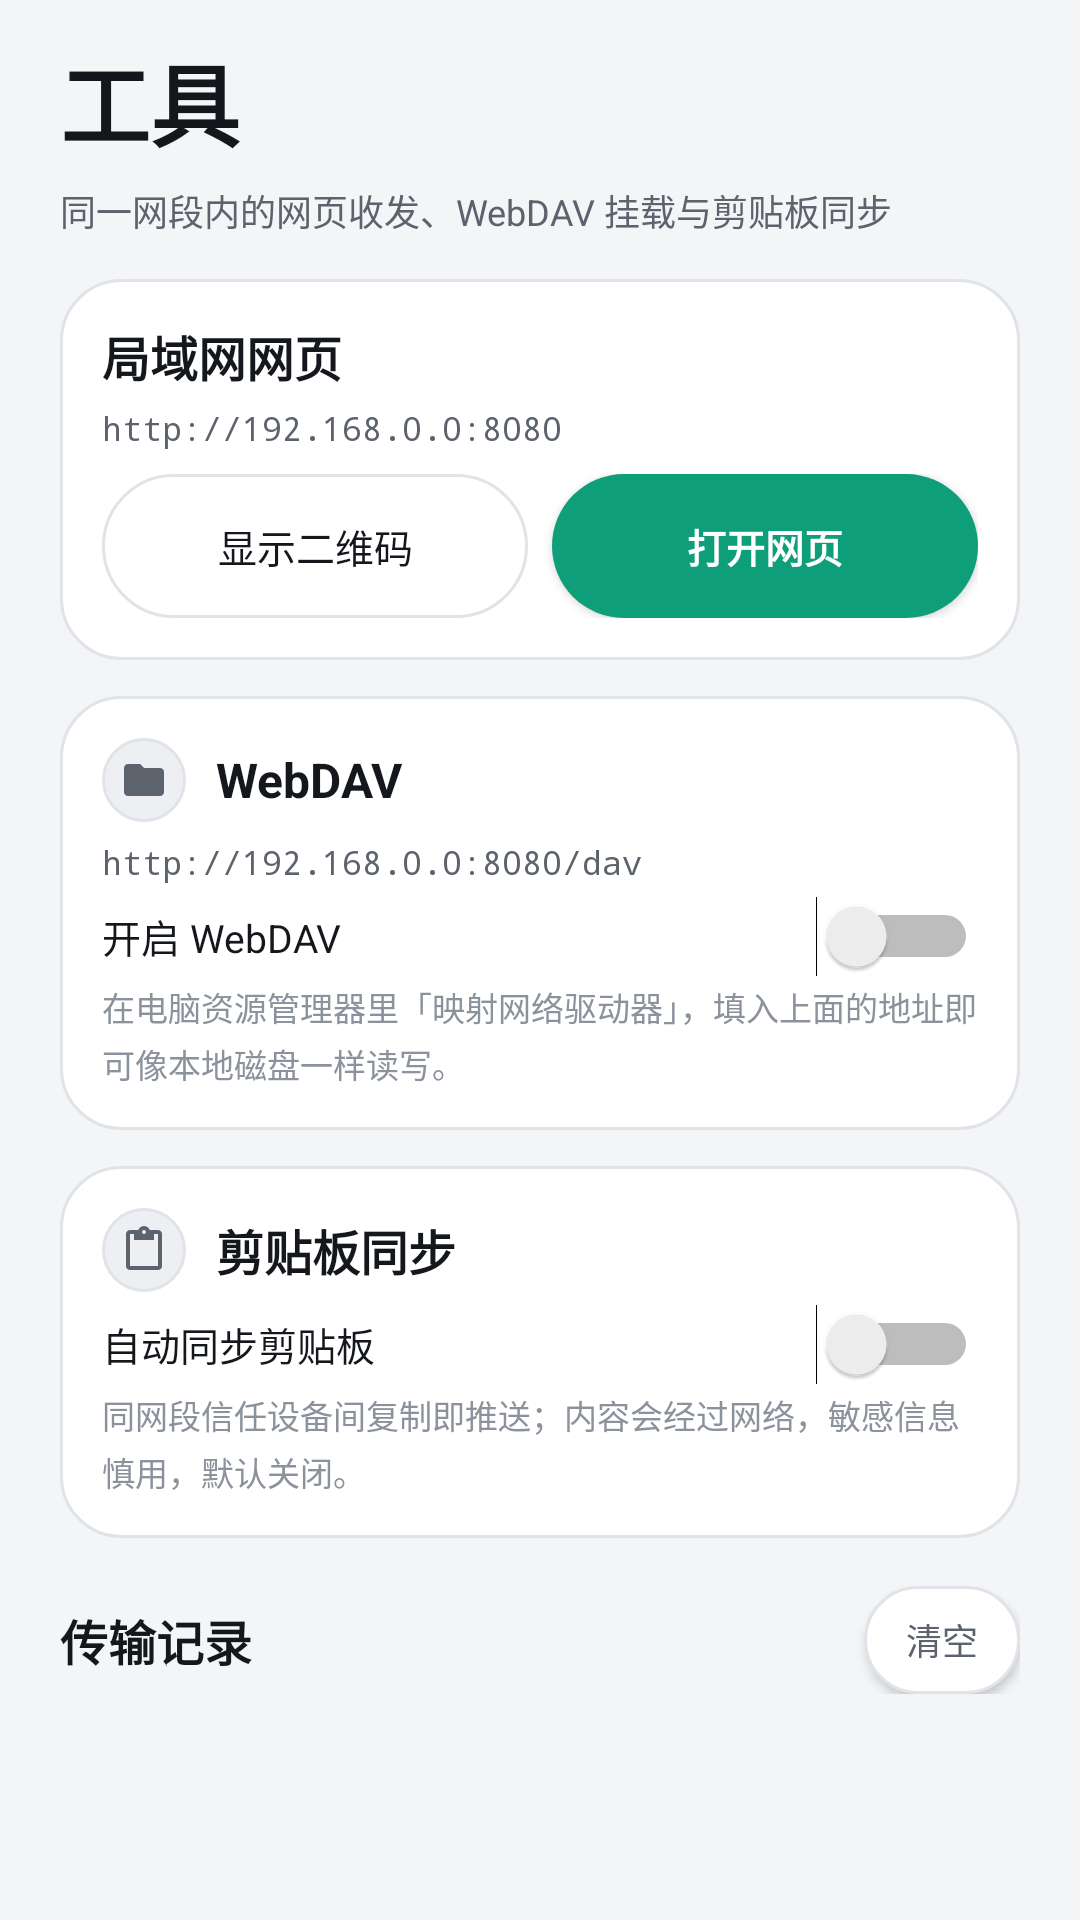

Where to tap for icons on this 1080*1920 app screen, as point (x, y):
tools clip: point (144, 1250)
tools dav: point (144, 780)
